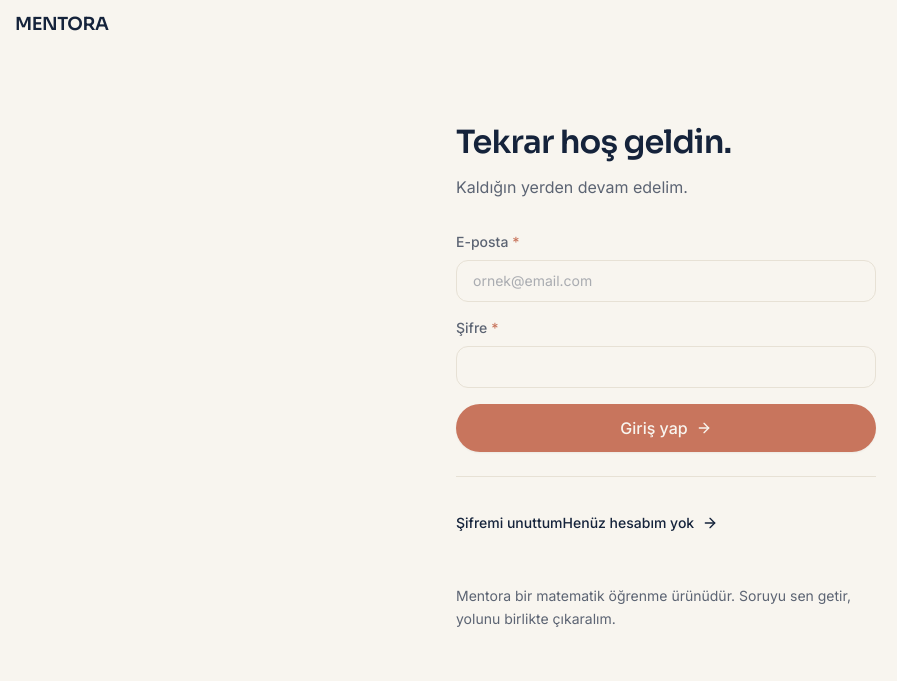
Test: AuthScreen › rejects a short password on signup
Click the button "Henüz hesabım yok" at (640,523), box [563,501,718,545]
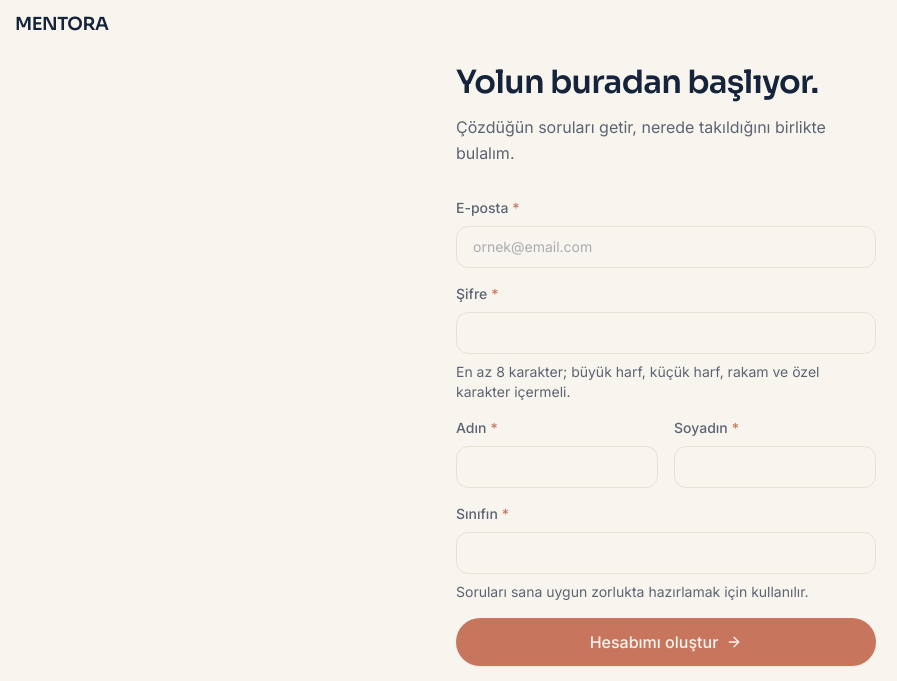
Type "Ayşe" into the field labelled "Adın*" at (557,467), box [456,446,658,488]
Type "Yılmaz" into the field labelled "Soyadın*" at (775,467), box [674,446,876,488]
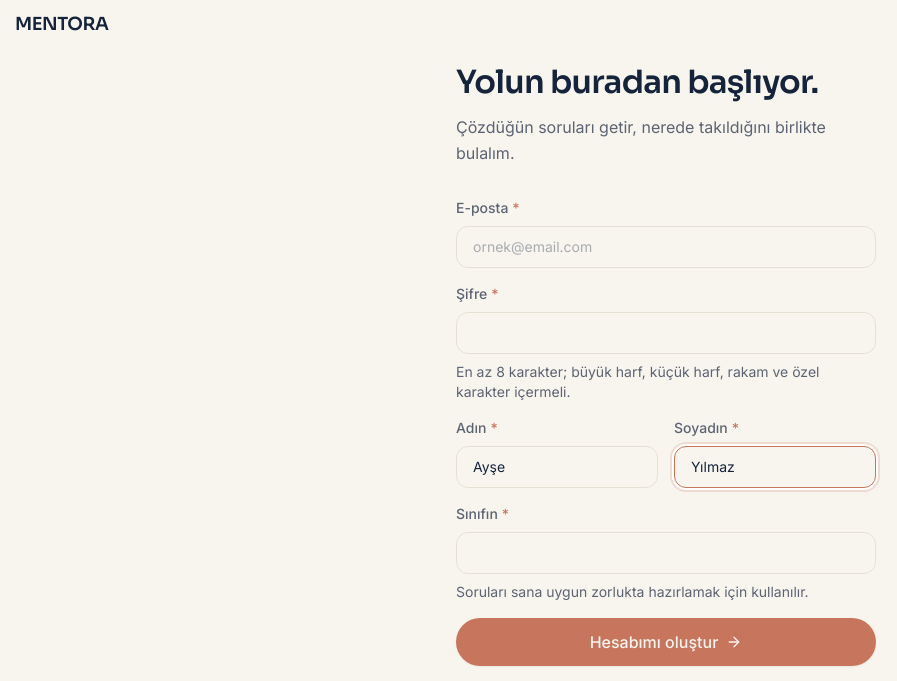
Type "ayse@example.com" into the field labelled "E-posta*" at (666,247), box [456,226,876,268]
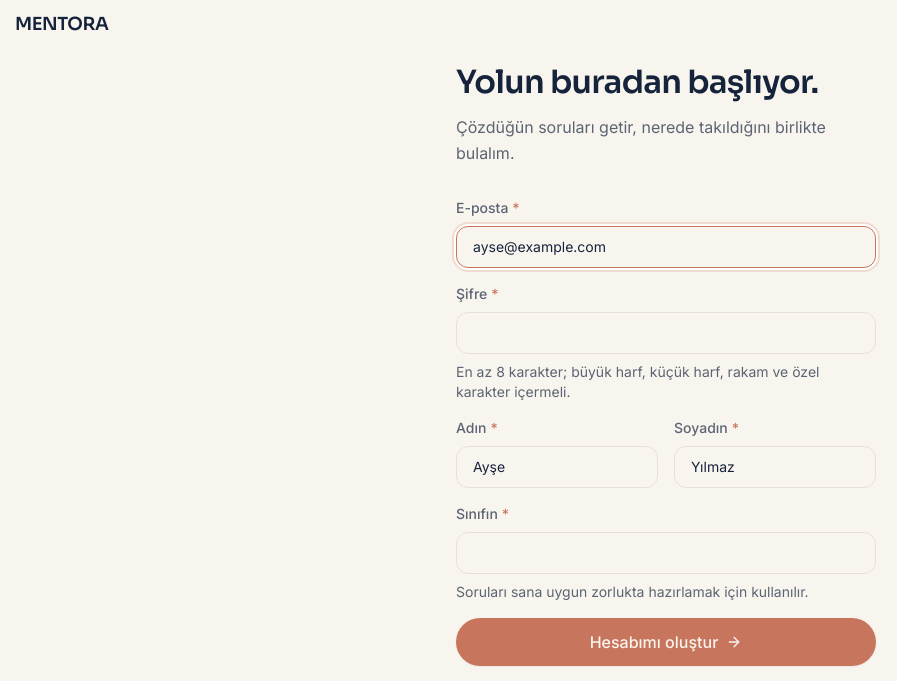
Type "kisa" into the password field labelled "Şifre*" at (666,333), box [456,312,876,354]
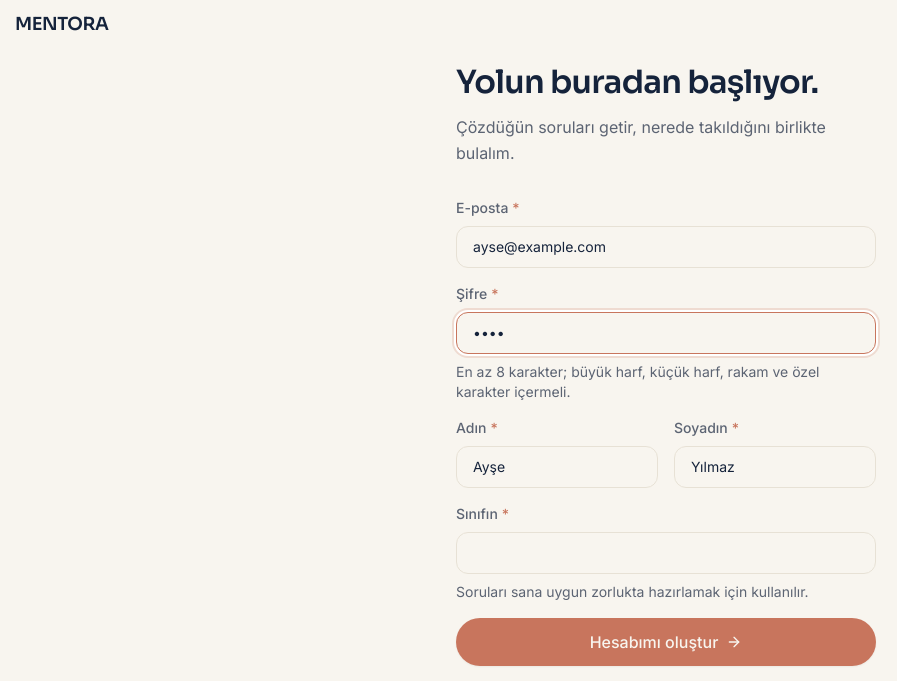
Type "11" into the number field labelled "Sınıfın*" at (666,553), box [456,532,876,574]
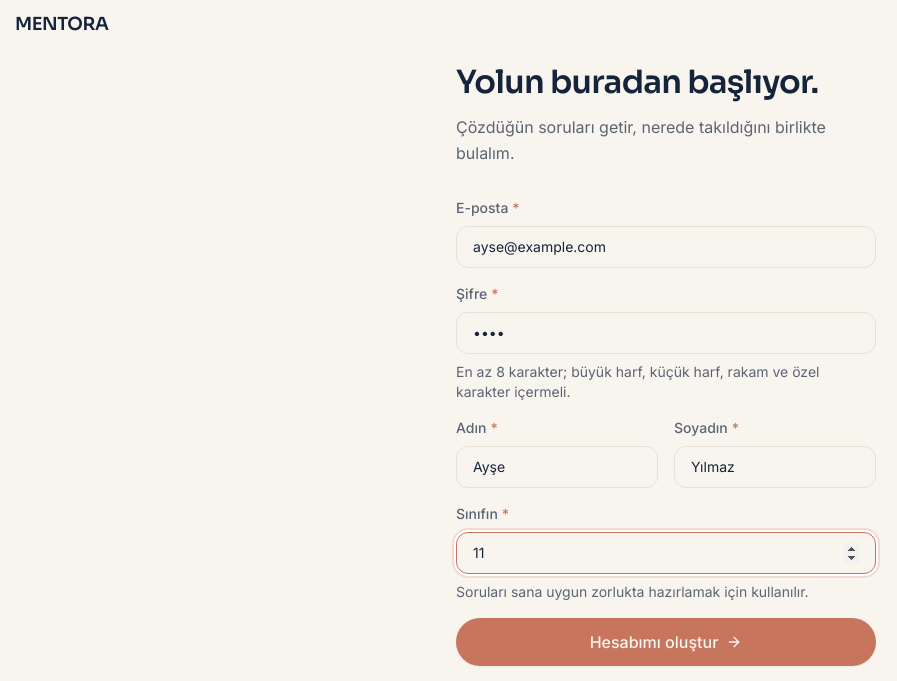
Click the button "Hesabımı oluştur" at (666,642), box [456,618,876,666]
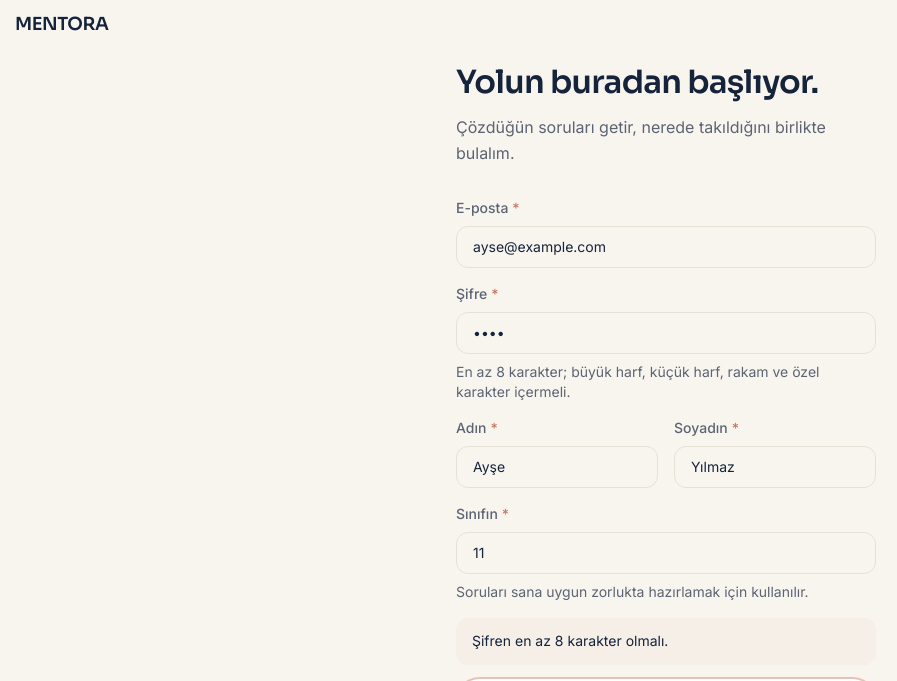
expect the message shows "en az 8 karakter": met, box [472,632,668,649]
